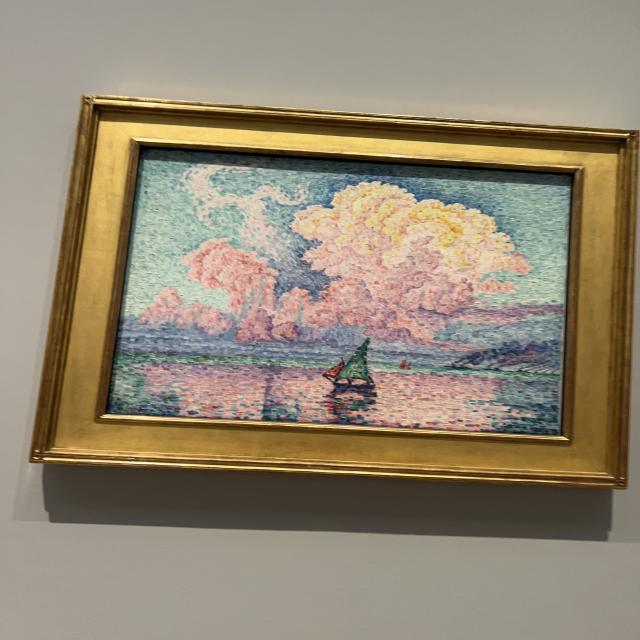sunrise: (111, 150, 566, 430)
